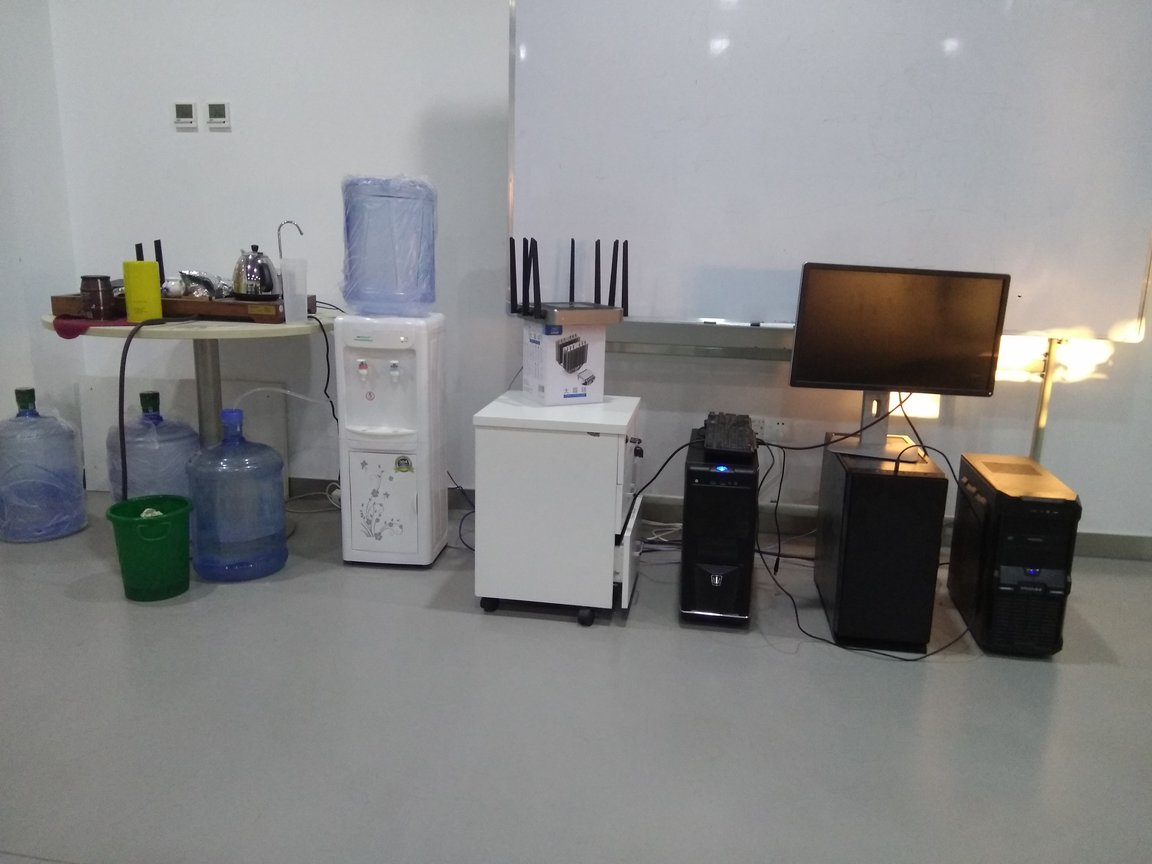computer: (820, 422, 938, 665), (957, 450, 1076, 671), (679, 419, 754, 648)
drawer chest: (472, 389, 642, 631)
monitor: (793, 258, 992, 465)
scuttlebutt: (190, 409, 292, 588), (110, 392, 201, 561), (1, 385, 95, 546), (337, 175, 444, 315)
water dispenser: (331, 311, 441, 590)
